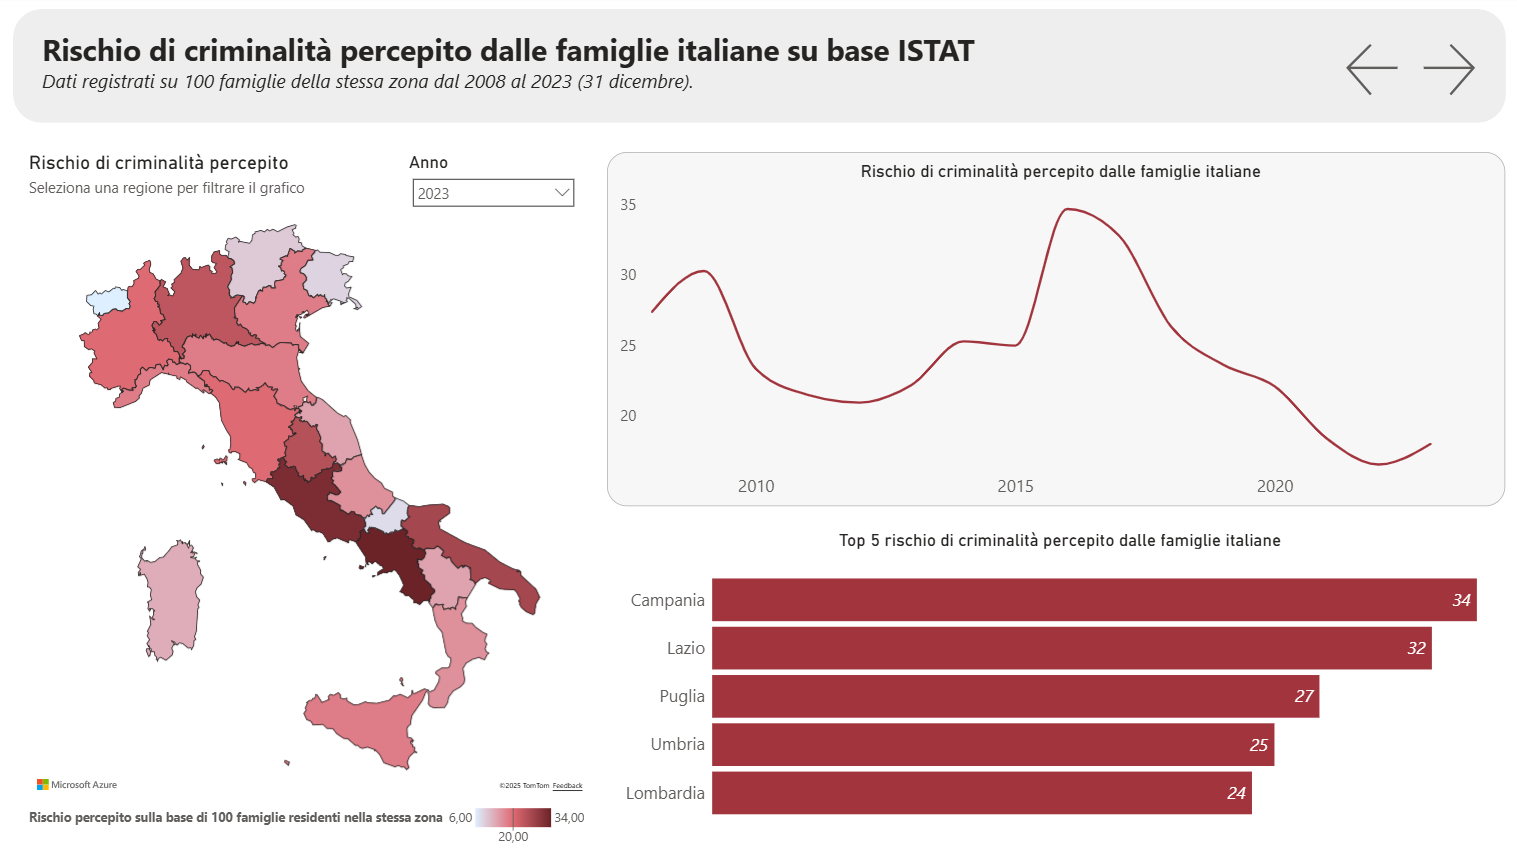

The dashboard page shown, as its layout file describes it:
{"tool":"powerbi","page":{"name":"Rischio percepito","canvas":[1920,1080],"ordinal":1},"visuals":[{"type":"azureMap","title":"Rischio di criminalità percepito","fields":{"Category":["unpivot_df_raw.territorio"]},"box":[32,192,720,816],"z":0},{"type":"lineChart","title":"Rischio di criminalità percepito dalle famiglie italiane","fields":{"Y":["Avg(unpivot_df_raw.rischio_di_criminalità_percepito_dalle_famiglie)"],"Category":["unpivot_df_raw.anno"]},"box":[768,192,1136,448],"z":1000},{"type":"shape","box":[16,12,1888,144],"z":2000},{"type":"textbox","box":[48,32,1200,96],"z":3000},{"type":"slicer","title":"Anno","fields":{"Values":["unpivot_df_raw.anno"]},"box":[512,192,224,96],"z":4000},{"type":"barChart","title":"Top 5 rischio di criminalità percepito dalle famiglie italiane","fields":{"Y":["Sum(unpivot_df_raw.rischio_di_criminalità_percepito_dalle_famiglie)"],"Category":["unpivot_df_raw.territorio"]},"box":[768,660,1136,400],"z":5000},{"type":"actionButton","box":[1792,48,96,80],"z":6000},{"type":"hundredPercentStackedColumnChart","title":"Media del rischio di criminalità percepito ","fields":{"Category":["unpivot_df_raw.territorio"]},"box":[32,784,736,288],"z":7000},{"type":"actionButton","box":[1696,48,96,80],"z":8000}]}

Visuals, with their boxes in screenshot pixels (x1, y1, x2, y2), scaled from the page's 1920x1080 canvas onto the 1517x851 screenshot:
"Rischio di criminalità percepito" azureMap: l=25, t=151, r=594, b=794
"Rischio di criminalità percepito dalle famiglie italiane" lineChart: l=607, t=151, r=1504, b=504
shape: l=13, t=9, r=1504, b=123
textbox: l=38, t=25, r=986, b=101
"Anno" slicer: l=405, t=151, r=582, b=227
"Top 5 rischio di criminalità percepito dalle famiglie italiane" barChart: l=607, t=520, r=1504, b=835
actionButton: l=1416, t=38, r=1492, b=101
"Media del rischio di criminalità percepito " hundredPercentStackedColumnChart: l=25, t=618, r=607, b=845
actionButton: l=1340, t=38, r=1416, b=101
